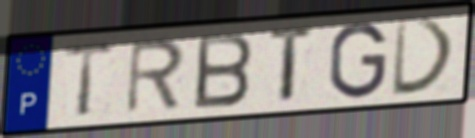B: (192, 30, 256, 111)
D: (389, 15, 459, 99)
G: (327, 20, 389, 102)
R: (123, 36, 187, 116)
T: (61, 39, 119, 120), (267, 22, 318, 107)
